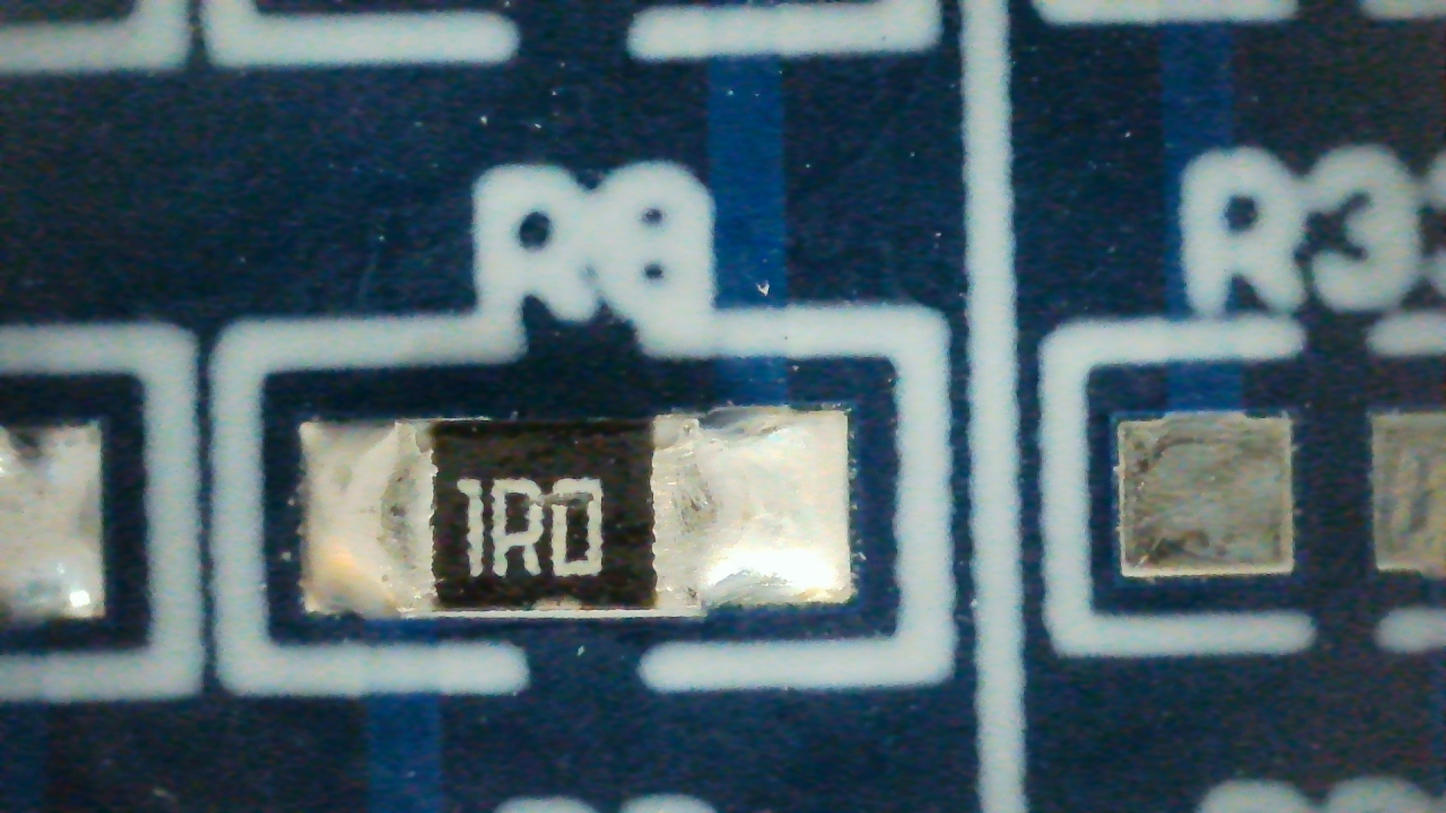OK: (299, 411, 853, 614)
